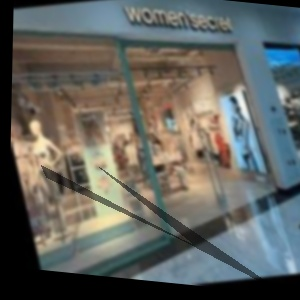women_secret: (183, 0, 289, 10)
